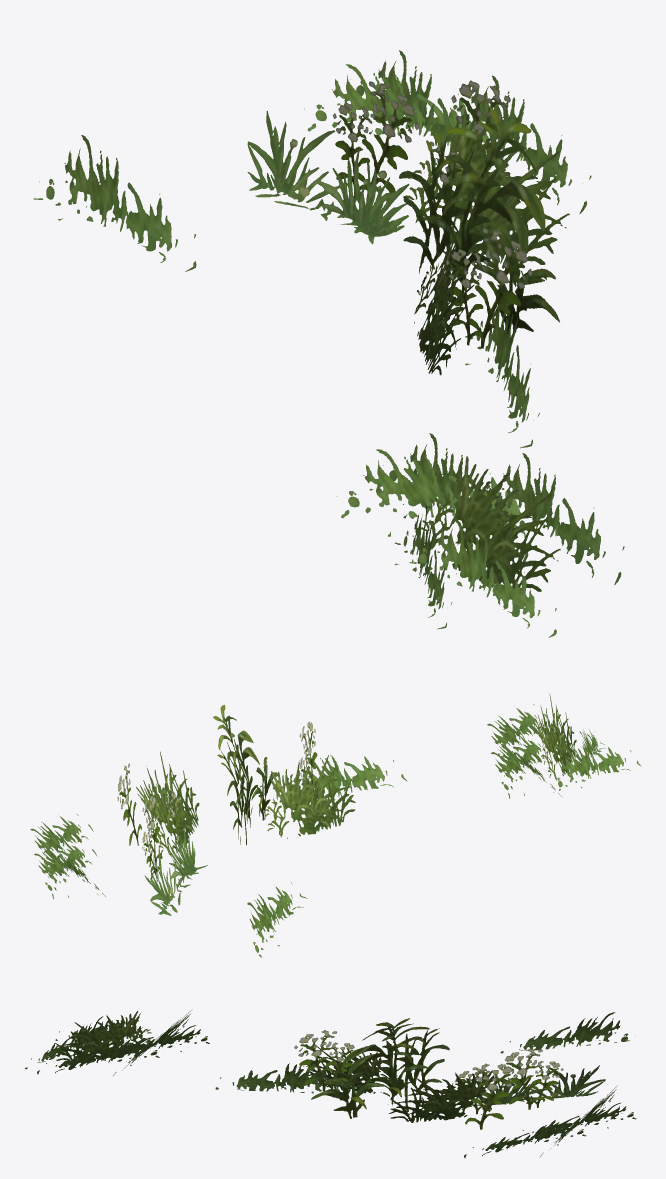
The model's file is zhiwu_09.FBX.
The picture shows the model from 3 angles, top to bottom: view 1: azimuth 30°, elevation 25°; view 2: azimuth 150°, elevation 25°; view 3: azimuth 270°, elevation 25°; orthographic projection. The views are drawn at different scales.
Visible parts, largest first — view 1: zhiwu_09; view 2: zhiwu_09; view 3: zhiwu_09.
Part boxes in pixels (x1,y1,x2,y2): zhiwu_09: [33, 50, 624, 637]; zhiwu_09: [30, 693, 641, 957]; zhiwu_09: [25, 1009, 636, 1157].
Size of the model in its own units: 2.48 by 1.02 by 4.39.
